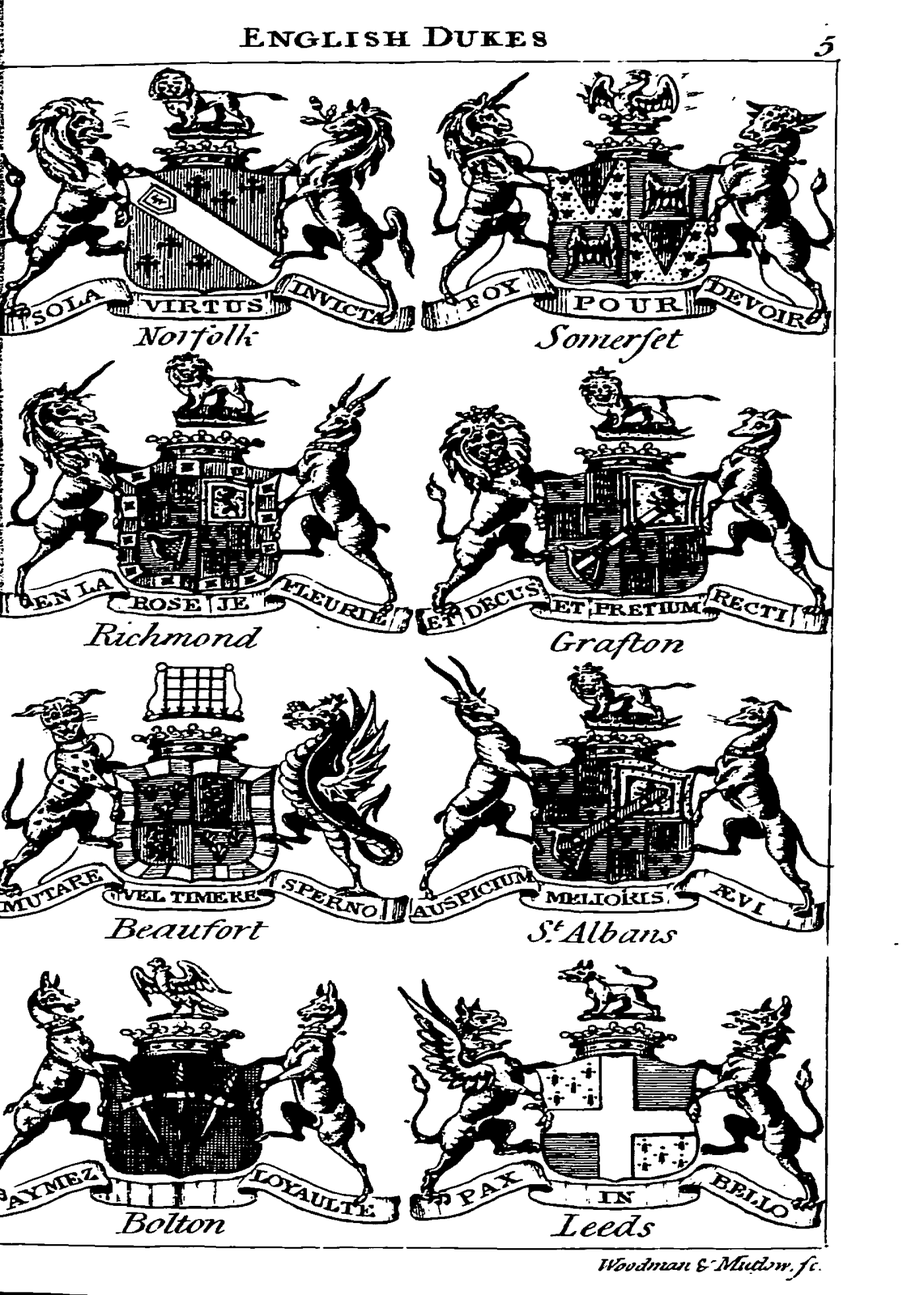coat_of_arms: (412, 654, 834, 953), (411, 358, 828, 654), (417, 62, 827, 362), (403, 957, 832, 1243), (16, 354, 409, 666), (7, 72, 415, 354), (11, 661, 407, 948), (6, 946, 391, 1241)
